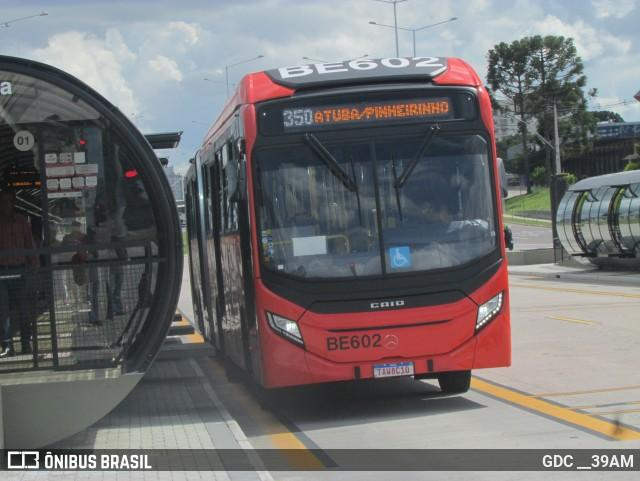ATUBA PINHEIRINHO: (311, 98, 453, 127)
